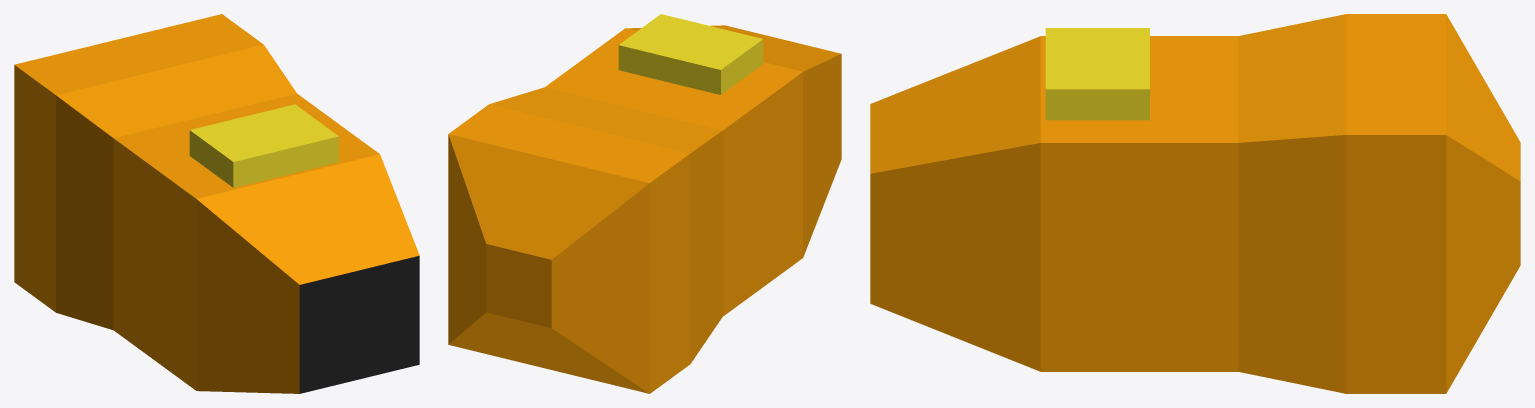
File: wing_cannon.glb
The picture shows the model from 3 angles, left to right: view 1: azimuth 30°, elevation 25°; view 2: azimuth 150°, elevation 25°; view 3: azimuth 270°, elevation 25°; orthographic projection. The views are drawn at different scales.
Parts seen in each view (by area): view 1: Cube.001; view 2: Cube.001; view 3: Cube.001.
Boxes of the visible parts, x1=… form: Cube.001: x1=14, y1=14, x2=419, y2=393; Cube.001: x1=448, y1=14, x2=841, y2=393; Cube.001: x1=870, y1=14, x2=1520, y2=393.
Size of the model in its own units: 0.3324 by 0.3525 by 0.7556.
Materials: 1 (1 with a texture image).
